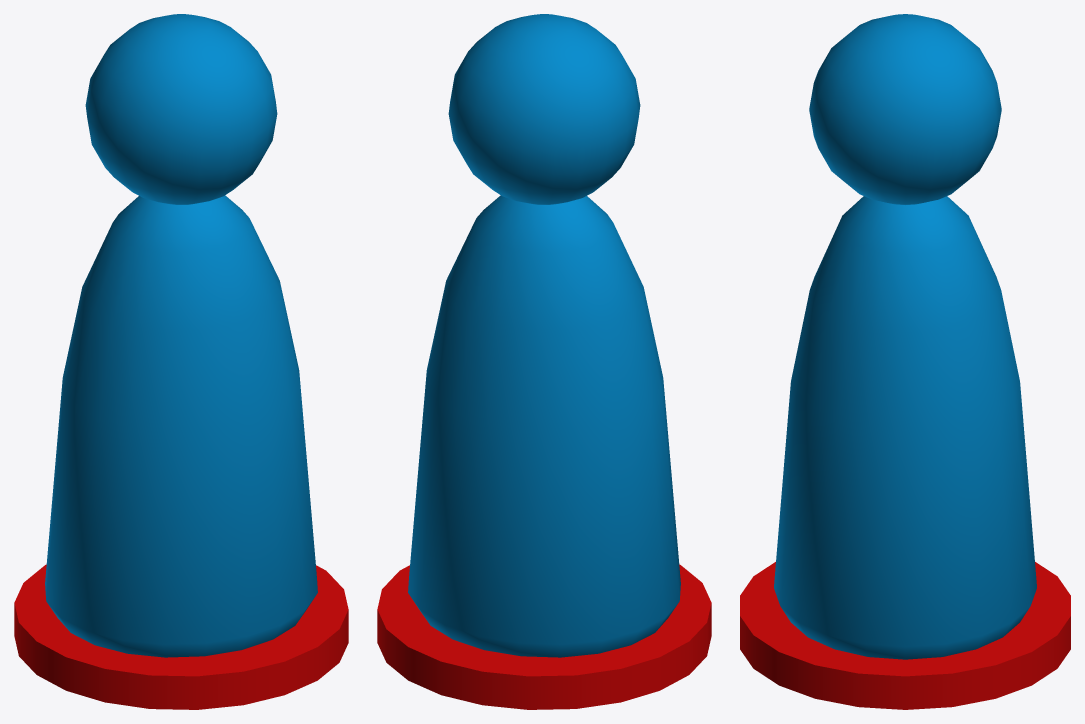
Rendered from danbinglan2.gltf.
The picture shows the model from 3 angles, left to right: view 1: azimuth 30°, elevation 25°; view 2: azimuth 150°, elevation 25°; view 3: azimuth 270°, elevation 25°; orthographic projection.
Visible parts, largest first — view 1: Sphere001, Sphere002, Cylinder001; view 2: Sphere001, Sphere002, Cylinder001; view 3: Sphere001, Sphere002, Cylinder001.
Boxes of the visible parts, bbox=[...] form: Sphere001: bbox=[45, 195, 317, 657]; Sphere002: bbox=[85, 14, 277, 204]; Cylinder001: bbox=[14, 564, 348, 709]; Sphere001: bbox=[408, 195, 680, 657]; Sphere002: bbox=[448, 14, 640, 204]; Cylinder001: bbox=[377, 564, 711, 709]; Sphere001: bbox=[774, 196, 1036, 659]; Sphere002: bbox=[809, 14, 1001, 204]; Cylinder001: bbox=[740, 562, 1070, 709].
Size of the model in its own units: 54.22 by 110 by 53.67.
